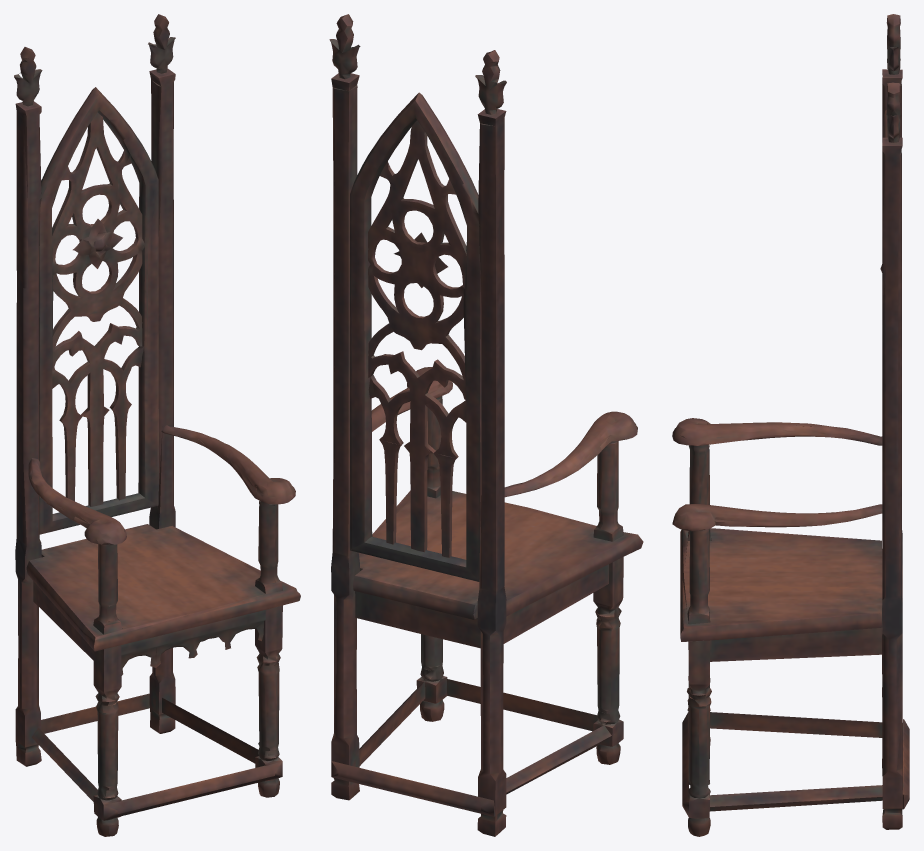
File: chair_wood.glb
The picture shows the model from 3 angles, left to right: view 1: azimuth 30°, elevation 25°; view 2: azimuth 150°, elevation 25°; view 3: azimuth 270°, elevation 25°; orthographic projection. The views are drawn at different scales.
Visible parts, largest first — view 1: mesh; view 2: mesh; view 3: mesh.
Boxes of the visible parts, left/top/right/bottom form: mesh: left=14, top=14, right=300, bottom=836; mesh: left=329, top=14, right=643, bottom=836; mesh: left=672, top=14, right=909, bottom=836.
Bounding box in the file's own units: 0.6892 × 2.27 × 0.6573.
1 material, 1 textured.
